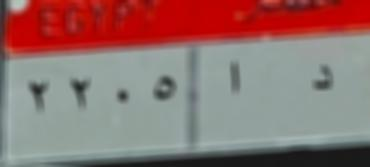0: (110, 85, 134, 109)
2: (64, 67, 96, 116), (23, 77, 54, 125)
5: (149, 70, 180, 114)
alif: (226, 54, 248, 102)
daal: (304, 59, 337, 99)
